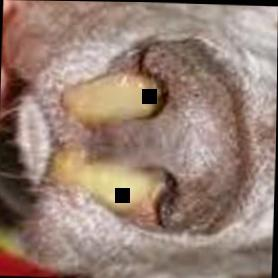nasal_discharge: (48, 55, 186, 227)
